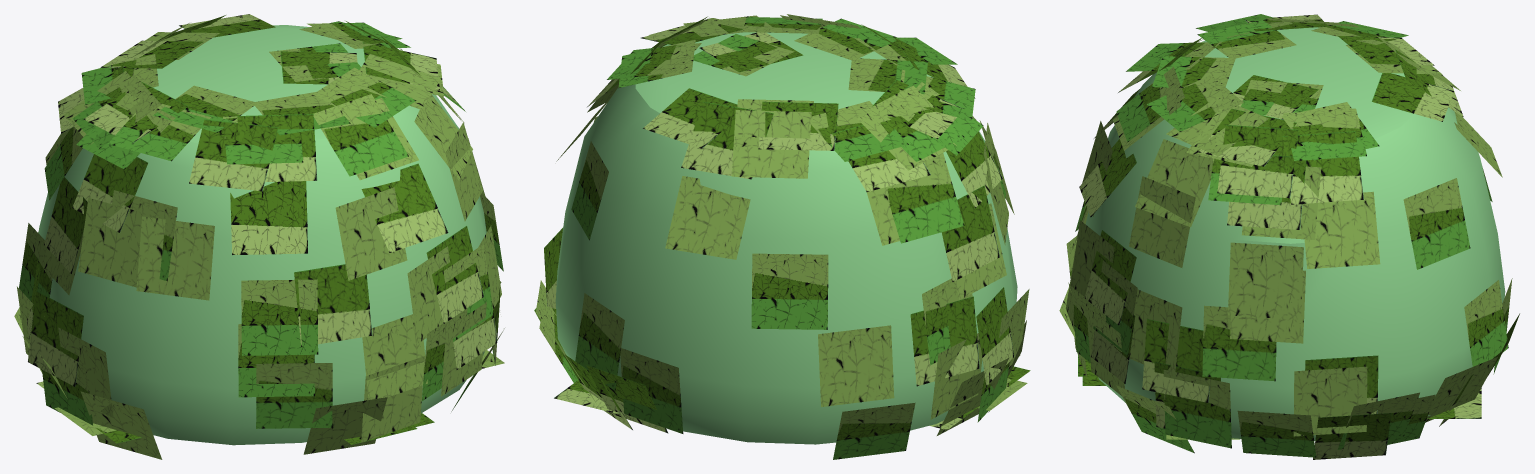
The model's file is Bush.fbx.
3 renders of one model, left to right at view 1: azimuth 30°, elevation 25°; view 2: azimuth 150°, elevation 25°; view 3: azimuth 270°, elevation 25°, orthographic. The views are drawn at different scales.
Parts seen in each view (by area): view 1: Bush2; view 2: Bush2; view 3: Bush2.
Part boxes in pixels (x1,y1,x2,y2): Bush2: (14, 14, 504, 459); Bush2: (534, 14, 1030, 459); Bush2: (1059, 14, 1519, 459).
Bounding box in the file's own units: 2.1 × 1.47 × 1.97.
